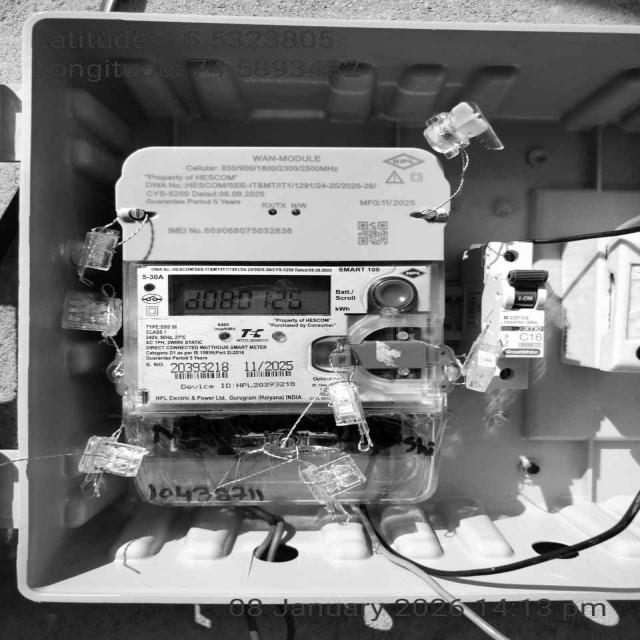meter: (124, 145, 452, 407)
